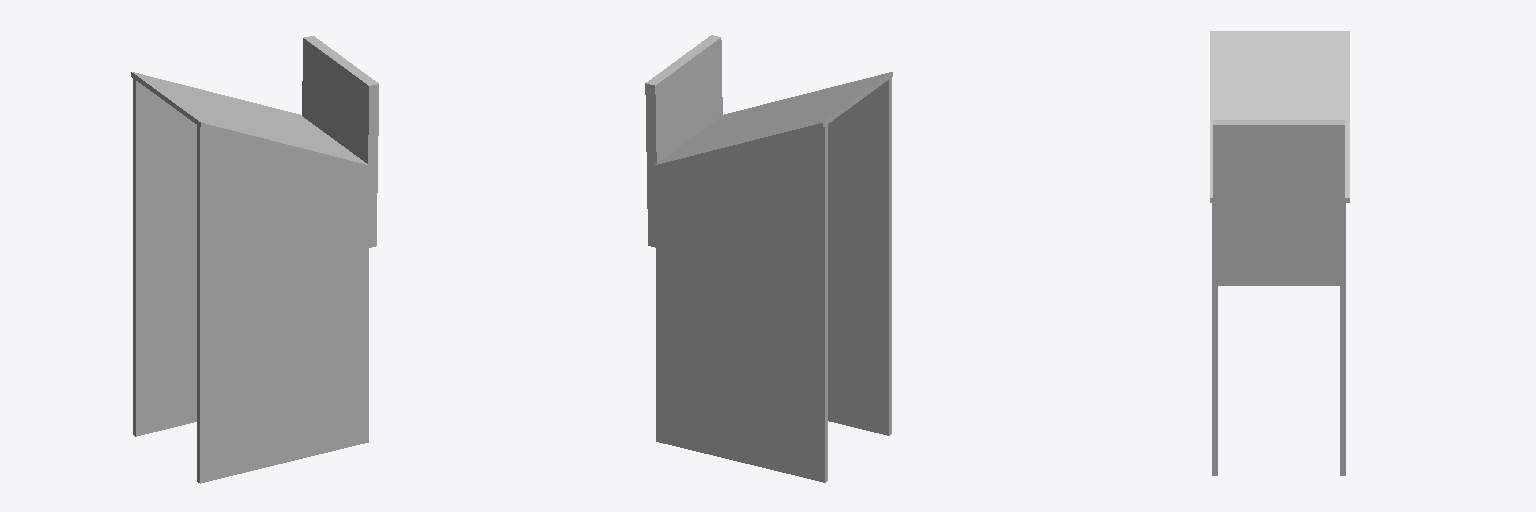
The model's file is Bschodydach.obj.
3 views of the same model, side by side, from view 1: azimuth 30°, elevation 25°; view 2: azimuth 150°, elevation 25°; view 3: azimuth 270°, elevation 25° (orthographic).
Visible parts, largest first — view 1: Kostka_Kostka.004, Kostka.001_Kostka.005, Kostka.005_Kostka.020_Kostka.005_Kostka.002_Kostka.005_Kostka.02, Kostka.003_Kostka.006; view 2: Kostka.001_Kostka.005, Kostka_Kostka.004, Kostka.005_Kostka.020_Kostka.005_Kostka.002_Kostka.005_Kostka.02, Kostka.003_Kostka.006; view 3: Kostka.005_Kostka.020_Kostka.005_Kostka.002_Kostka.005_Kostka.02, Kostka.003_Kostka.006, Kostka_Kostka.004, Kostka.001_Kostka.005.
Part boxes in pixels (left/top/right/bottom): Kostka_Kostka.004: left=197, top=120, right=368, bottom=483; Kostka.001_Kostka.005: left=133, top=75, right=196, bottom=436; Kostka.005_Kostka.020_Kostka.005_Kostka.002_Kostka.005_Kostka.02: left=302, top=36, right=378, bottom=247; Kostka.003_Kostka.006: left=131, top=72, right=369, bottom=169; Kostka.001_Kostka.005: left=656, top=121, right=827, bottom=482; Kostka_Kostka.004: left=828, top=73, right=891, bottom=435; Kostka.005_Kostka.020_Kostka.005_Kostka.002_Kostka.005_Kostka.02: left=645, top=35, right=722, bottom=247; Kostka.003_Kostka.006: left=654, top=72, right=892, bottom=169; Kostka.005_Kostka.020_Kostka.005_Kostka.002_Kostka.005_Kostka.02: left=1213, top=120, right=1344, bottom=285; Kostka.003_Kostka.006: left=1210, top=31, right=1349, bottom=202; Kostka_Kostka.004: left=1212, top=201, right=1217, bottom=475; Kostka.001_Kostka.005: left=1340, top=201, right=1345, bottom=475.
Bounding box in the file's own units: 2.56 × 4.92 × 1.71.